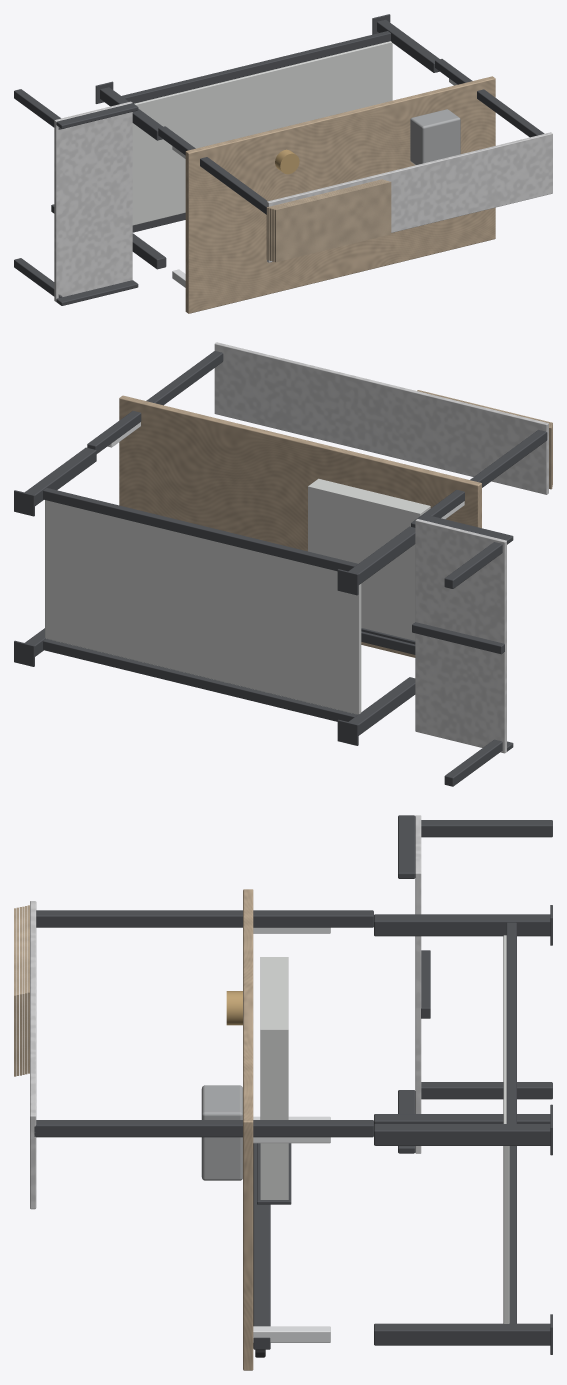
The model's file is Stations__PackingStation.glb.
3 views of the same model, one above another, from view 1: azimuth 30°, elevation 25°; view 2: azimuth 150°, elevation 25°; view 3: azimuth 270°, elevation 25° (orthographic). The views are drawn at different scales.
Parts seen in each view (by area): view 1: /World/Stations/PackingStation/packing_station_worktop/Visua (×3), /World/Stations/PackingStation (×2), /World/Stations/PackingStation/packing_station_body/Visual/G, /World/Stations/PackingStation/packing_station_body/Visual/C; view 2: /World/Stations/PackingStation (×2), /World/Stations/PackingStation/packing_station_body/Visual/G, /World/Stations/PackingStation/packing_station_worktop/Visua, /World/Stations/PackingStation/packing_station_body/Visual/C; view 3: /World/Stations/PackingStation (×2), /World/Stations/PackingStation/packing_station_worktop/Visua (×3), /World/Stations/PackingStation/packing_station_body/Visual/G, /World/Stations/PackingStation/packing_station_body/Visual/C.
Part boxes in pixels (box(x1,y1,x2,y2)): /World/Stations/PackingStation/packing_station_worktop/Visua (×3): box(185, 76, 495, 313); /World/Stations/PackingStation (×2): box(14, 14, 544, 305); /World/Stations/PackingStation/packing_station_body/Visual/G: box(54, 101, 552, 301); /World/Stations/PackingStation/packing_station_body/Visual/C: box(266, 179, 391, 262); /World/Stations/PackingStation (×2): box(14, 351, 547, 786); /World/Stations/PackingStation/packing_station_body/Visual/G: box(214, 342, 548, 753); /World/Stations/PackingStation/packing_station_worktop/Visua: box(119, 395, 481, 657); /World/Stations/PackingStation/packing_station_body/Visual/C: box(417, 390, 552, 489); /World/Stations/PackingStation (×2): box(34, 815, 552, 1354); /World/Stations/PackingStation/packing_station_worktop/Visua (×3): box(201, 889, 330, 1370); /World/Stations/PackingStation/packing_station_body/Visual/G: box(30, 815, 421, 1209); /World/Stations/PackingStation/packing_station_body/Visual/C: box(14, 905, 29, 1076).
Bounding box in the file's own units: 2 × 0.9 × 1.57.
Materials: 10 (3 with a texture image).
